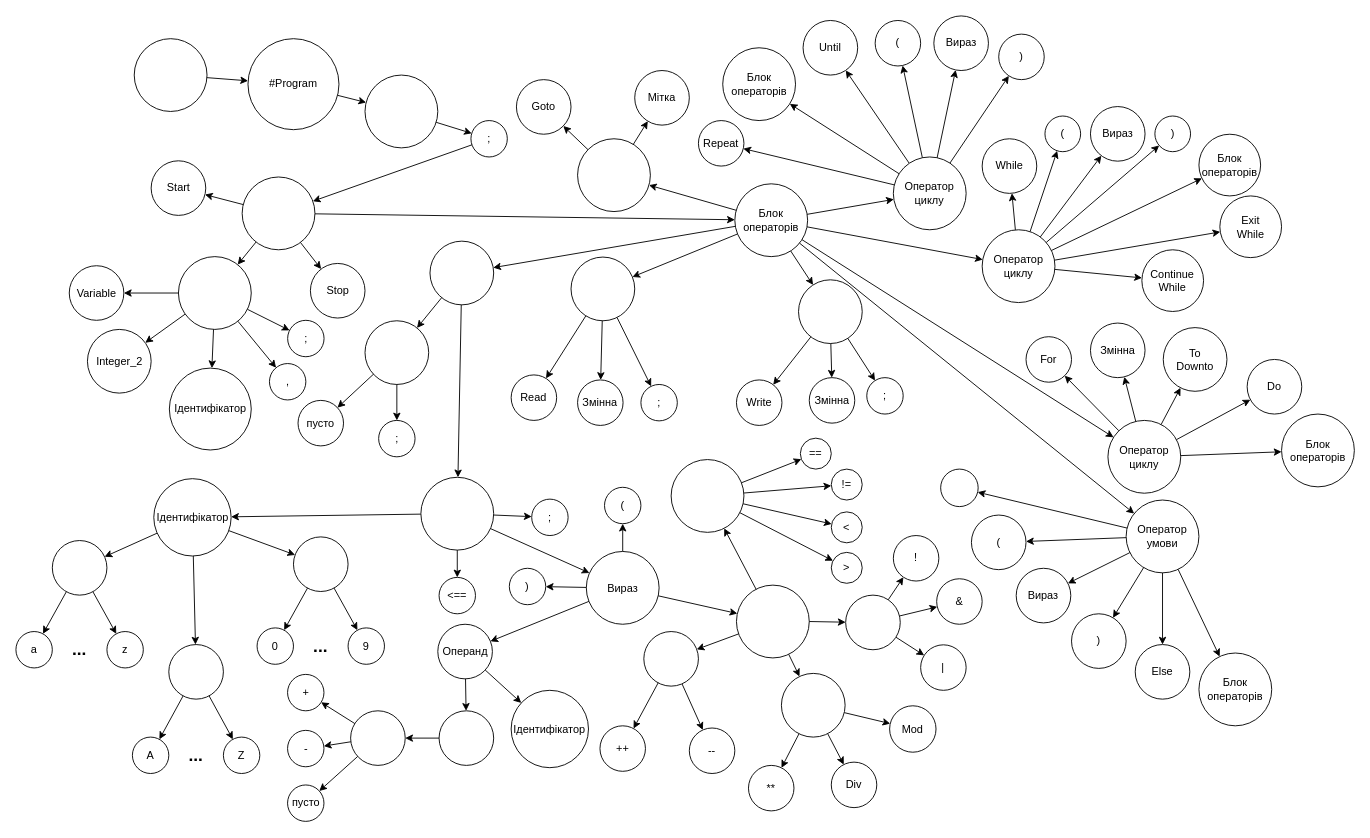
This 1370x838 diagram has some shape labels left out. Here are the shapes that lost their labels. From the top down, the centre of each, then its label:
At point (170, 74): "Основна програма".
At point (401, 111): "Ім'я програми".
At point (613, 175): "Оператор переходу".
At point (278, 213): "Блок коду".
At point (214, 292): "Блок змінних".
At point (461, 272): "Простий оператор".
At point (602, 288): "Оператор вводу".
At point (830, 311): "Оператор виводу".
At point (396, 352): "Порожній оператор".
At point (707, 495): "Операції порівняння".
At point (959, 487): "If".
At point (457, 513): "Присвоєння".
At point (79, 567): "Мала буква".
At point (320, 564): "Цифра".
At point (772, 621): "Операції".
At point (872, 622): "Логічна операція".
At point (195, 671): "Велика буква".
At point (670, 658): "Адитивна операція".
At point (813, 704): "Мультиплі кативна операція".
At point (377, 737): "Знак".
At point (466, 737): "Константа".
